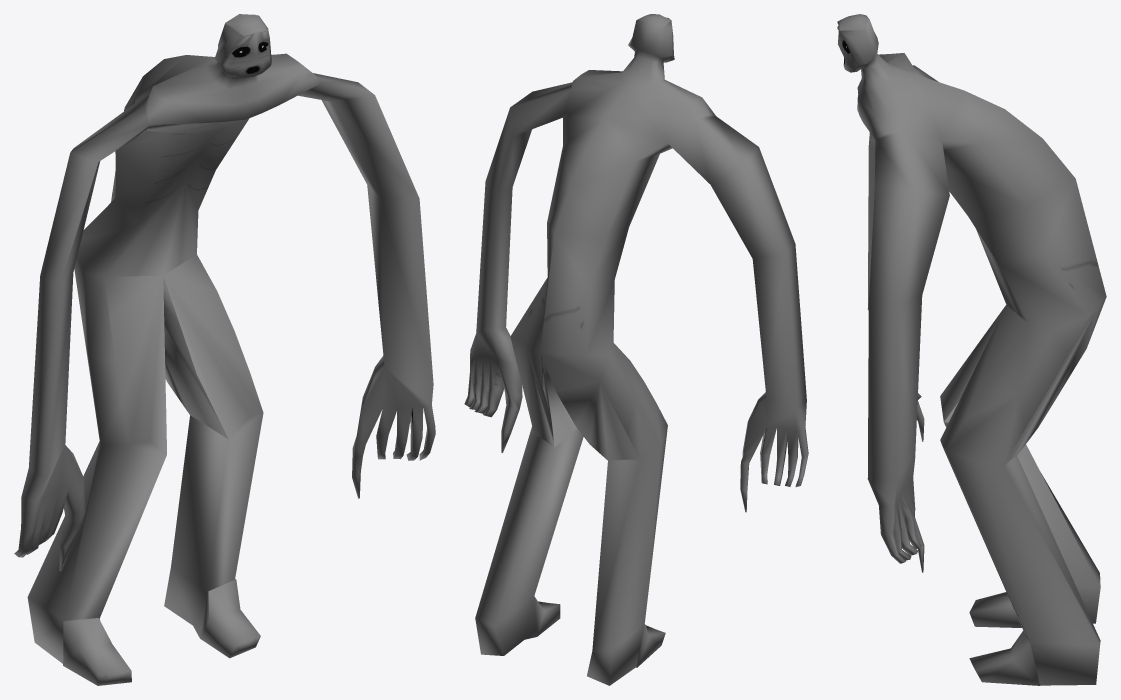
Rendered from monster.fbx.
The picture shows the model from 3 angles, left to right: view 1: azimuth 30°, elevation 25°; view 2: azimuth 150°, elevation 25°; view 3: azimuth 270°, elevation 25°; orthographic projection. The views are drawn at different scales.
Parts seen in each view (by area): view 1: Cube; view 2: Cube; view 3: Cube.
Boxes of the visible parts, bbox=[...] form: Cube: bbox=[14, 14, 435, 685]; Cube: bbox=[464, 14, 808, 685]; Cube: bbox=[837, 14, 1106, 685].
Size of the model in its own units: 192 by 313 by 120.
